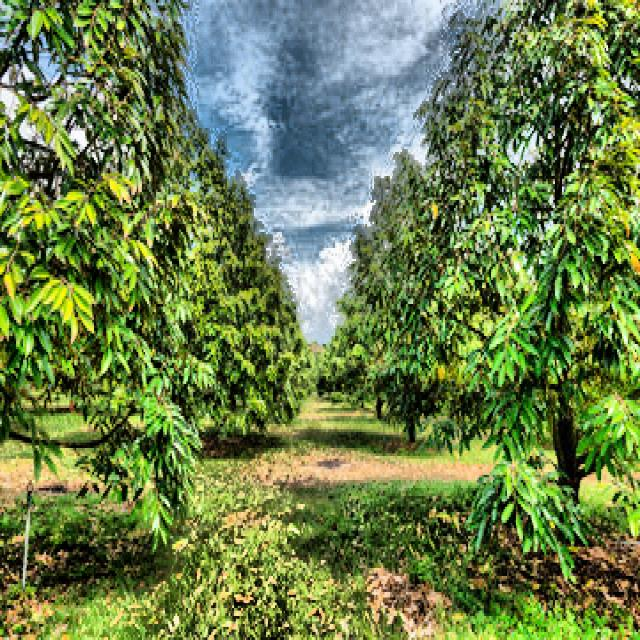arvore: (535, 210, 602, 548), (397, 352, 422, 453)
